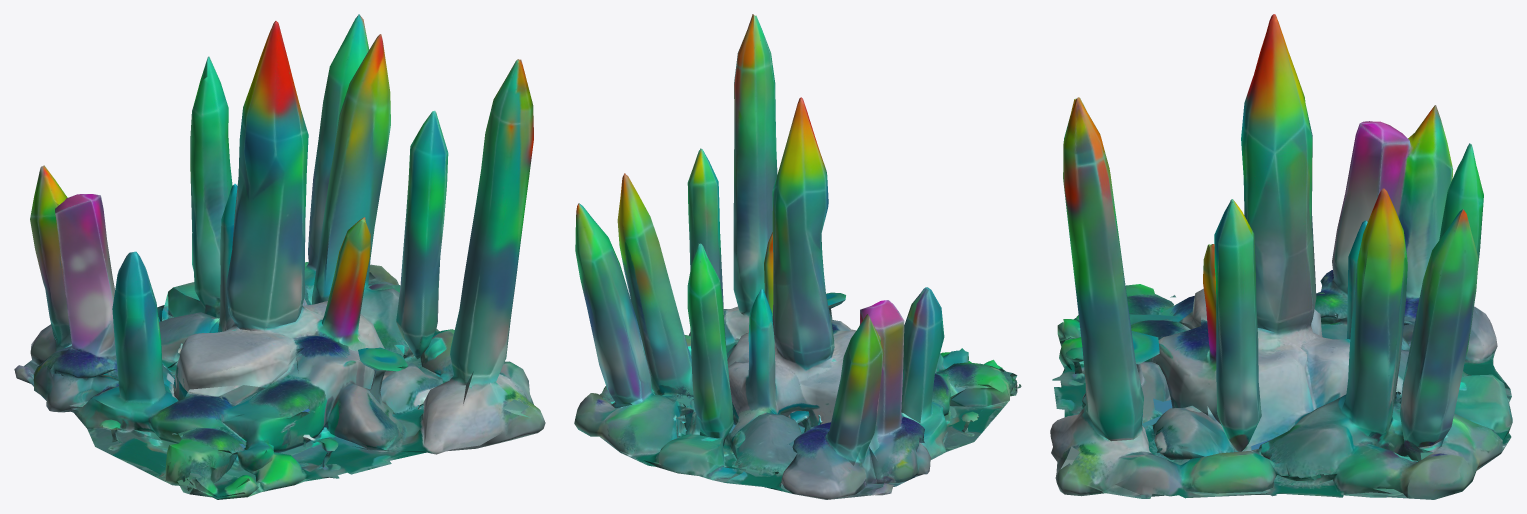
Rendered from Crystal Formation - LOW (1).glb.
3 renders of one model, left to right at view 1: azimuth 30°, elevation 25°; view 2: azimuth 150°, elevation 25°; view 3: azimuth 270°, elevation 25°, orthographic. The views are drawn at different scales.
Visible parts, largest first — view 1: Mesh0; view 2: Mesh0; view 3: Mesh0.
Part boxes in pixels (left/top/right/bottom): Mesh0: left=14, top=14, right=545, bottom=499; Mesh0: left=574, top=14, right=1021, bottom=499; Mesh0: left=1050, top=14, right=1512, bottom=499.
Size of the model in its own units: 1.99 by 1.87 by 1.98.
1 material, 1 textured.
